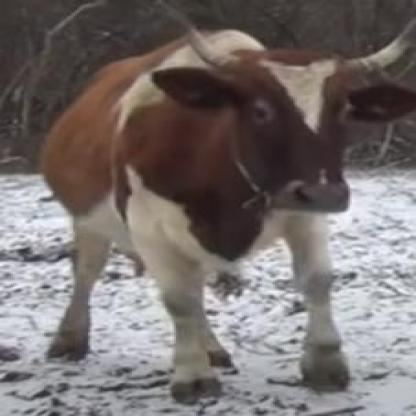cow: (40, 0, 415, 405)
